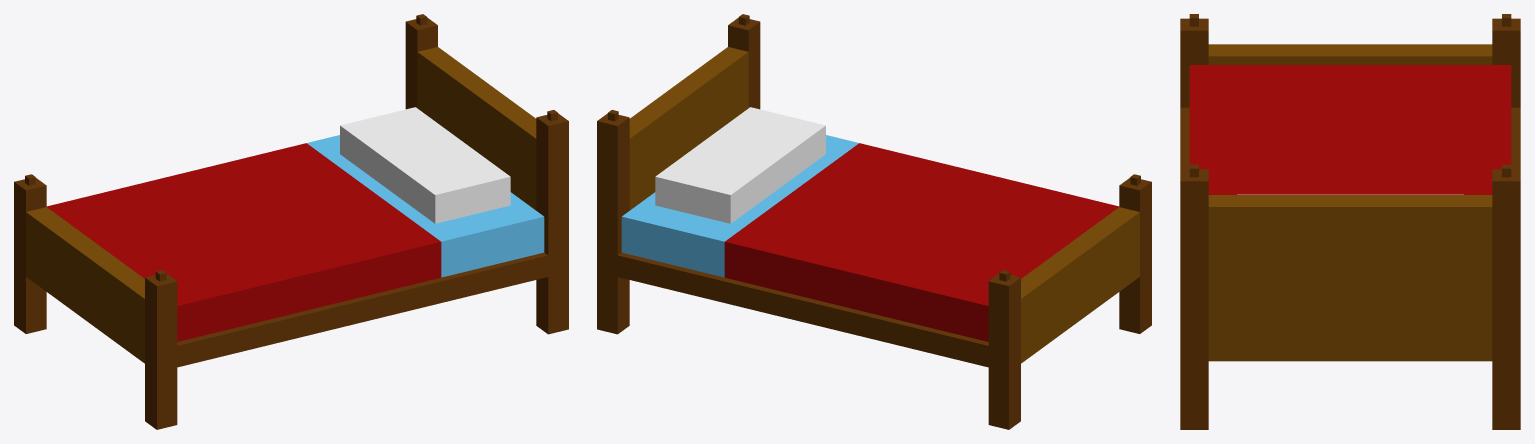
Rendered from bed_updated.obj.
3 views of the same model, side by side, from view 1: azimuth 30°, elevation 25°; view 2: azimuth 150°, elevation 25°; view 3: azimuth 270°, elevation 25° (orthographic). The views are drawn at different scales.
Bounding box in the file's own units: 6 × 3 × 3.6.
1 material, 1 textured.
